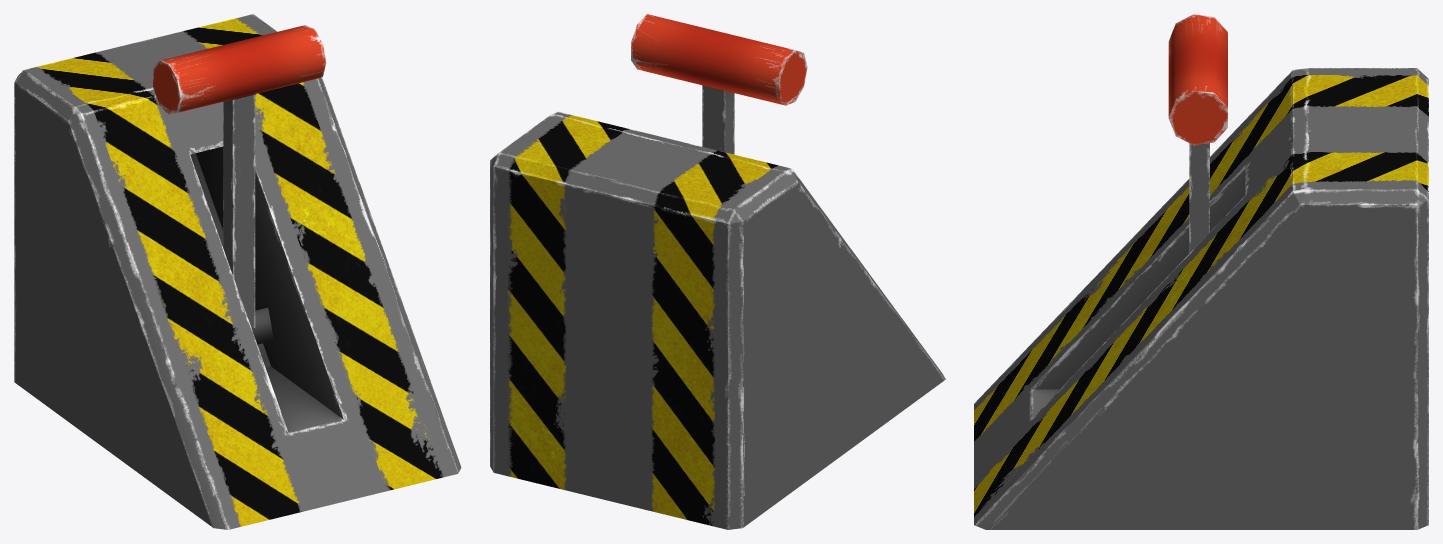
Rendered from Lever_03.FBX.
3 views of the same model, side by side, from view 1: azimuth 30°, elevation 25°; view 2: azimuth 150°, elevation 25°; view 3: azimuth 270°, elevation 25° (orthographic). The views are drawn at different scales.
Visible parts, largest first — view 1: Lever_03, Lever_03_part; view 2: Lever_03, Lever_03_part; view 3: Lever_03, Lever_03_part.
Boxes of the visible parts, x1=… form: Lever_03: x1=14, y1=14, x2=461, y2=529; Lever_03_part: x1=153, y1=25, x2=326, y2=344; Lever_03: x1=490, y1=111, x2=945, y2=529; Lever_03_part: x1=631, y1=14, x2=807, y2=154; Lever_03: x1=974, y1=68, x2=1428, y2=529; Lever_03_part: x1=1168, y1=14, x2=1227, y2=253.
Size of the model in its own units: 6.85 by 10.05 by 10.06.
Materials: 1 (1 with a texture image).
